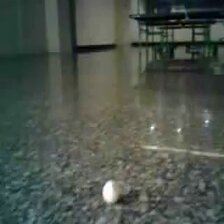w: (102, 179, 121, 202)
